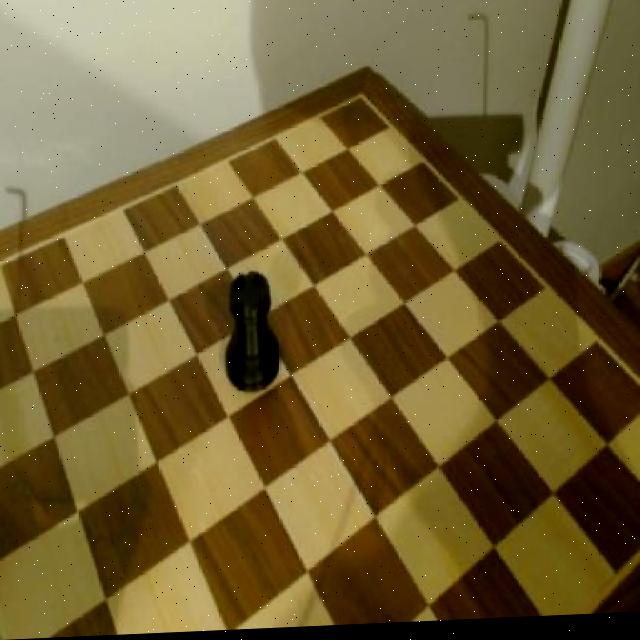black-queen: (221, 268, 280, 396)
